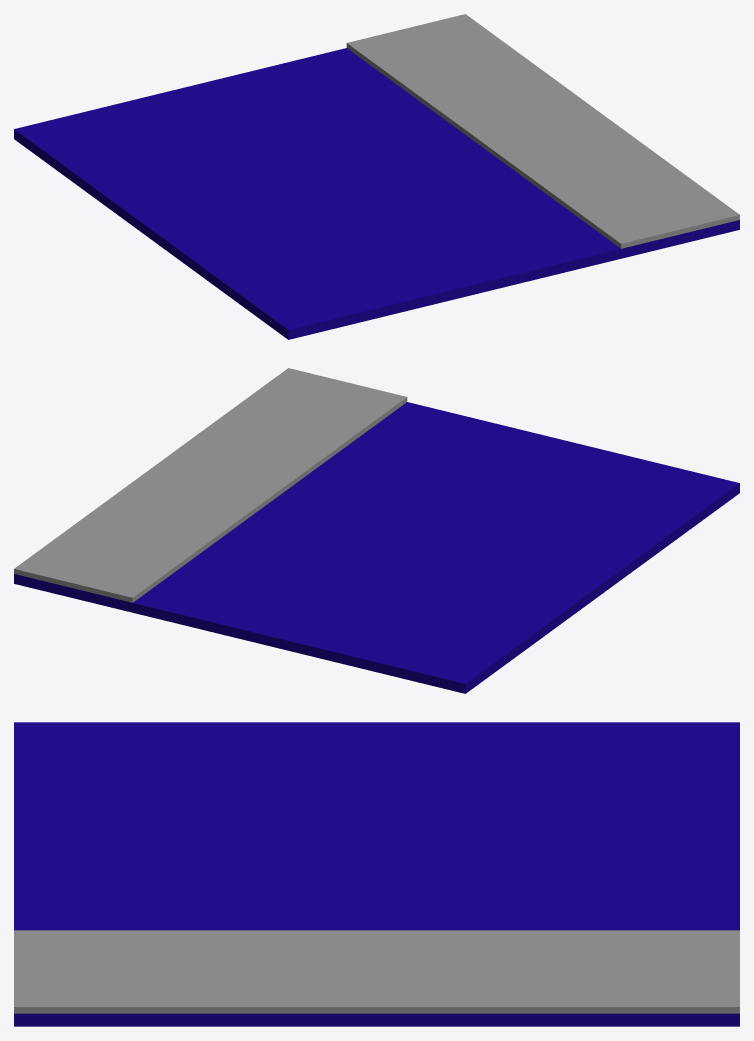
Rendered from Street_01.fbx.
3 views of the same model, one above another, from view 1: azimuth 30°, elevation 25°; view 2: azimuth 150°, elevation 25°; view 3: azimuth 270°, elevation 25° (orthographic). The views are drawn at different scales.
Parts seen in each view (by area): view 1: Box001; view 2: Box001; view 3: Box001.
Boxes of the visible parts, x1=… form: Box001: x1=14, y1=14, x2=739, y2=339; Box001: x1=14, y1=368, x2=739, y2=693; Box001: x1=14, y1=722, x2=739, y2=1026.
Bounding box in the file's own units: 187 × 197 × 5.91.
